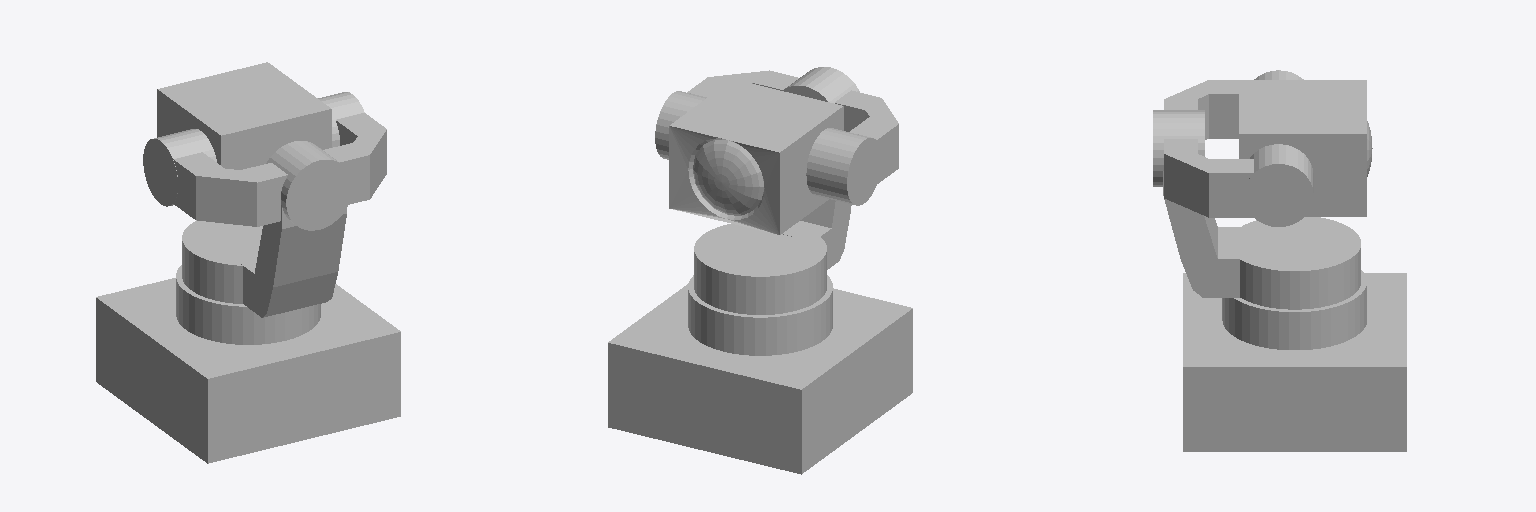
The model's file is PTZ.obj.
3 renders of one model, left to right at view 1: azimuth 30°, elevation 25°; view 2: azimuth 150°, elevation 25°; view 3: azimuth 270°, elevation 25°, orthographic.
Parts seen in each view (by area): view 1: Cube, Cylinder, Cylinder.003, Cube.001, Cylinder.001; view 2: Cube, Cylinder, Cube.001, Cylinder.003, Sphere, Cylinder.001; view 3: Cube, Cylinder, Cylinder.003, Cube.001, Cylinder.001.
Part boxes in pixels (x1,y1,x2,y2): Cube: (96, 278, 400, 463); Cylinder: (176, 205, 346, 344); Cylinder.003: (143, 92, 386, 226); Cube.001: (157, 62, 331, 169); Cylinder.001: (266, 141, 352, 230); Cube: (608, 283, 912, 474); Cylinder: (688, 199, 851, 355); Cube.001: (669, 79, 843, 234); Cylinder.003: (655, 70, 898, 205); Sphere: (693, 140, 763, 215); Cylinder.001: (783, 67, 859, 103); Cube: (1183, 273, 1406, 451); Cylinder: (1163, 171, 1366, 349); Cylinder.003: (1164, 70, 1313, 226); Cube.001: (1239, 80, 1366, 216); Cylinder.001: (1153, 110, 1204, 186).
Size of the model in its own units: 1.66 by 2.44 by 1.89.